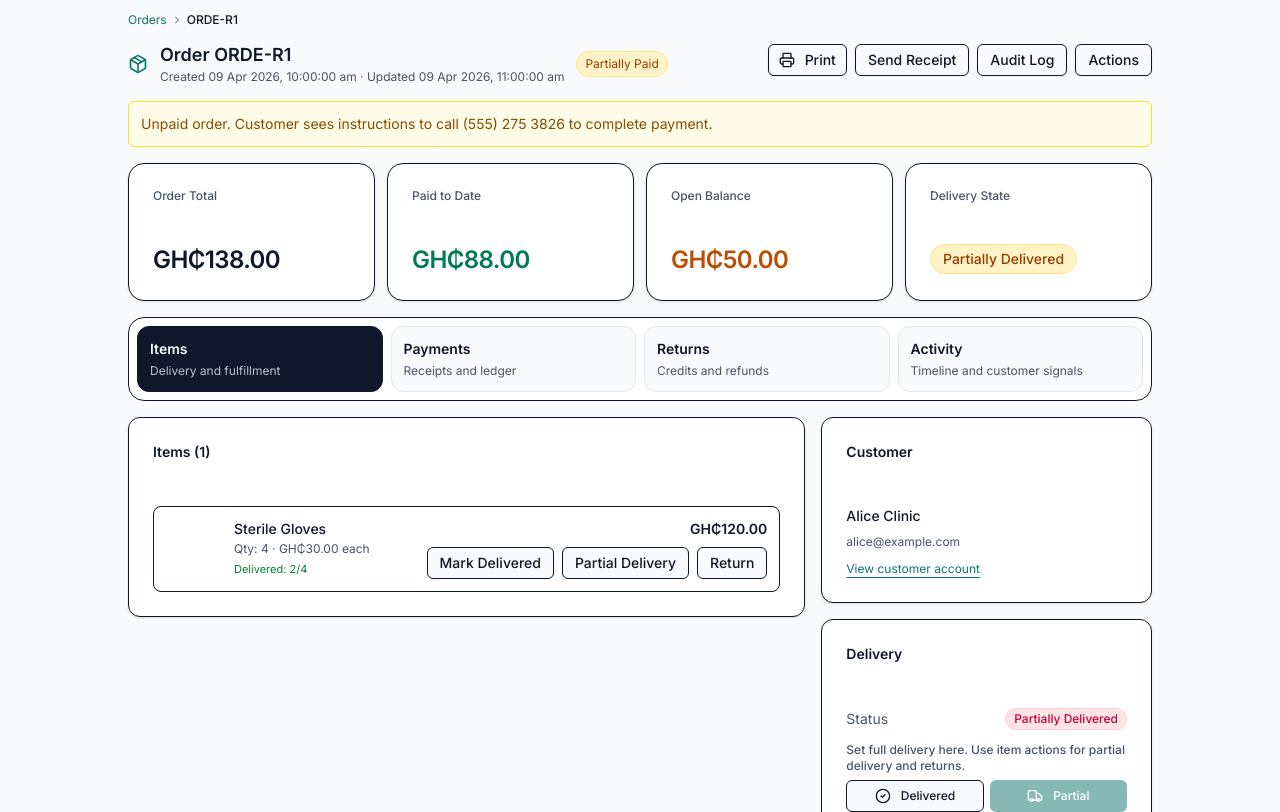
Scenario: OrderDetails › renders the order detail actions and routes the audit action to the page-specific source
This screenshot has width=1280, height=812.
Expected: the text "Alice Clinic" is shown, [846,506,921,524]
Click the button "Activity Timeline and customer signals": (1020,358) [898,326,1143,392]
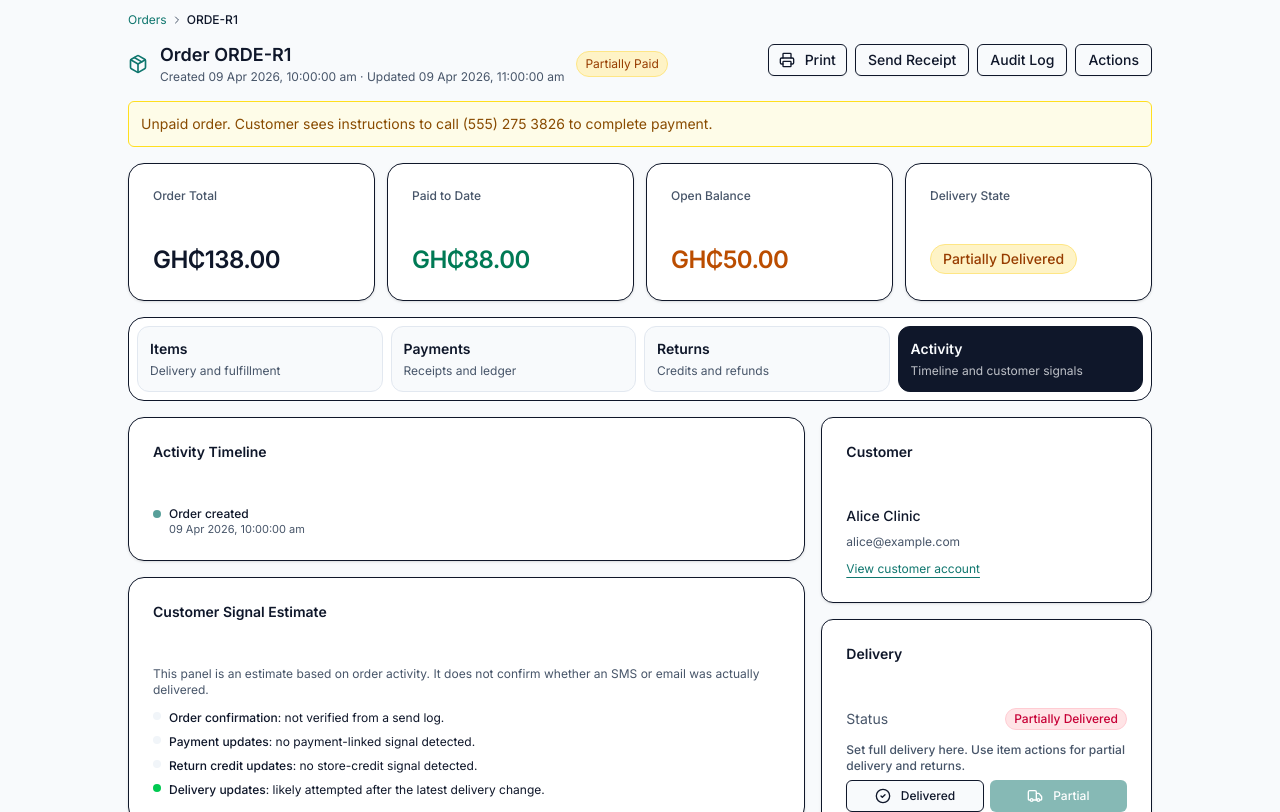
Result: the text "Activity Timeline" is shown at [153,442,267,460]
